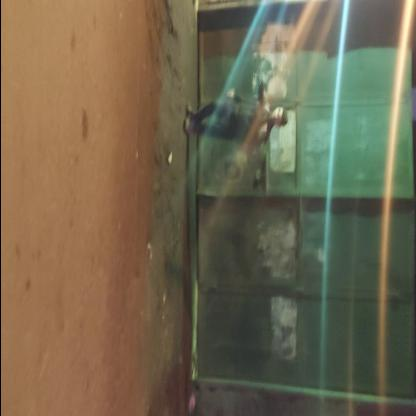long weapon: (250, 63, 272, 136)
